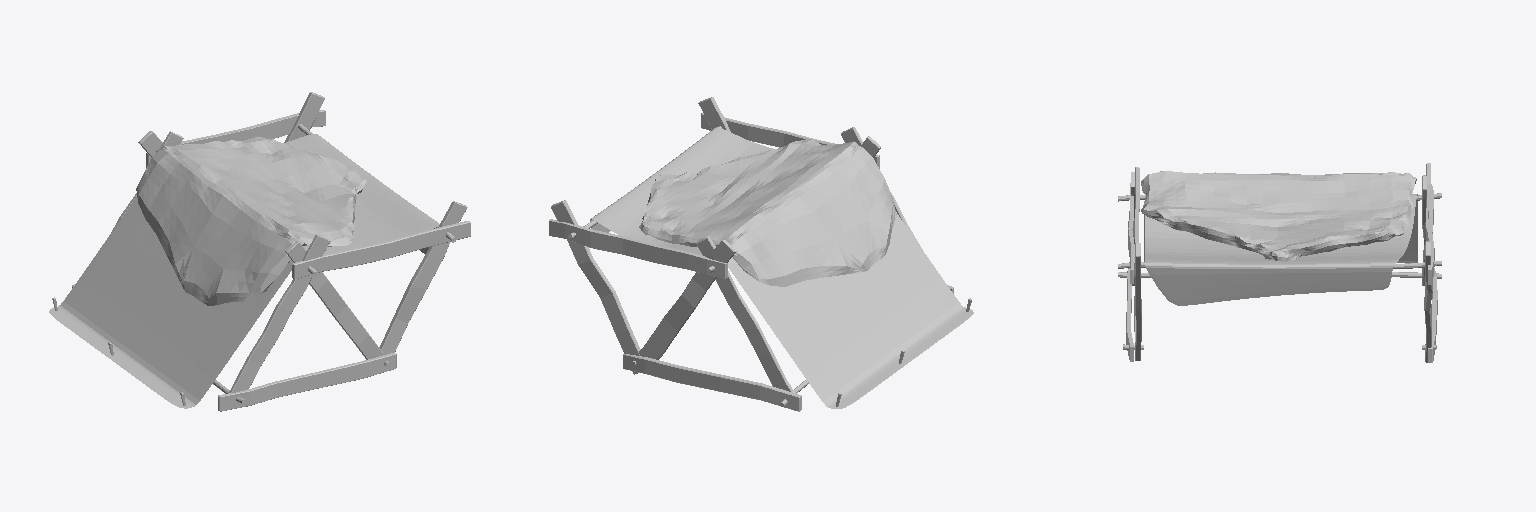
The model's file is midpoly_viking_tent_006.obj.
The picture shows the model from 3 angles: view 1: azimuth 30°, elevation 25°; view 2: azimuth 150°, elevation 25°; view 3: azimuth 270°, elevation 25°; orthographic projection.
Visible parts, largest first — view 1: Plane.001, Plane.003, Cube.029, Cube.032, Cube.027, Cube.030, Cube.026, Cube.033, Cube.031; view 2: Plane.001, Plane.003, Cube.033, Cube.024, Cube.031, Cube.025, Cube.028, Cube.032, Cube.030; view 3: Plane.001, Plane.003, Cube.030, Cube.031.
Part boxes in pixels (x1,y1,x2,y2): Plane.001: (136,137,367,305); Plane.003: (49,134,439,408); Cube.029: (218,352,396,411); Cube.032: (292,221,470,279); Cube.027: (229,234,330,392); Cube.030: (379,201,467,354); Cube.026: (285,240,383,359); Cube.033: (146,110,325,167); Cube.031: (284,92,324,142); Plane.001: (639,139,896,286); Plane.003: (590,127,973,408); Cube.033: (549,219,727,278); Cube.024: (623,354,801,411); Cube.031: (551,200,640,374); Cube.025: (639,239,736,359); Cube.028: (696,237,794,392); Cube.032: (701,113,879,168); Cube.030: (698,97,730,131); Plane.001: (1141,171,1416,261); Plane.003: (1144,194,1417,305); Cube.030: (1135,243,1141,360); Cube.031: (1424,241,1432,362).
Bounding box in the file's own units: 9.12 × 4.73 × 8.92.